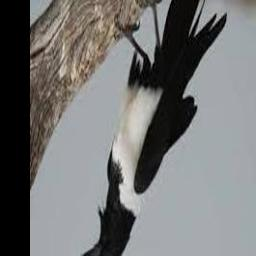Crow: (80, 0, 228, 256)
